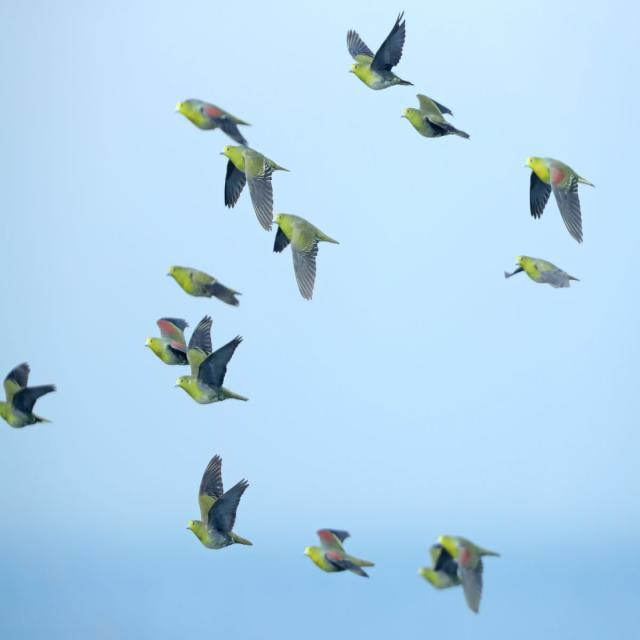bird: (214, 139, 293, 235), (167, 329, 255, 414), (415, 536, 505, 618), (522, 154, 598, 246), (187, 456, 258, 549), (274, 214, 343, 301), (346, 14, 415, 93), (0, 360, 60, 430), (172, 100, 255, 145), (305, 529, 378, 577), (165, 265, 243, 309), (141, 316, 206, 368), (399, 97, 471, 143), (504, 258, 583, 292)
